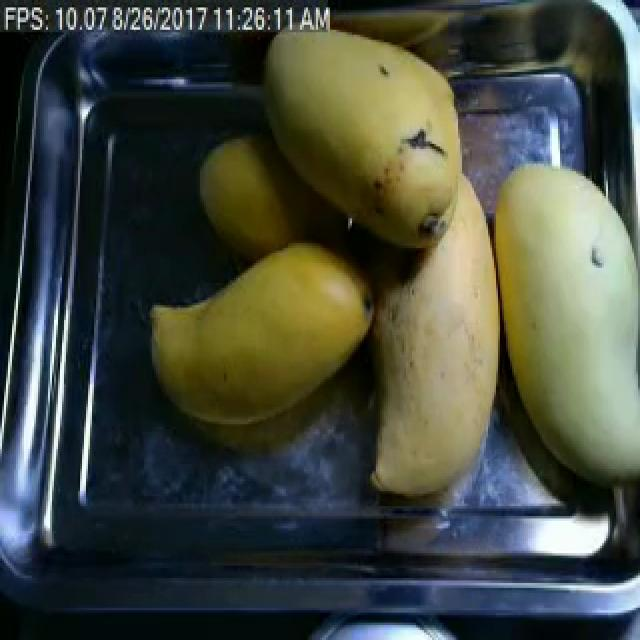fruit: (134, 228, 386, 439), (250, 15, 476, 233), (190, 132, 310, 266)
